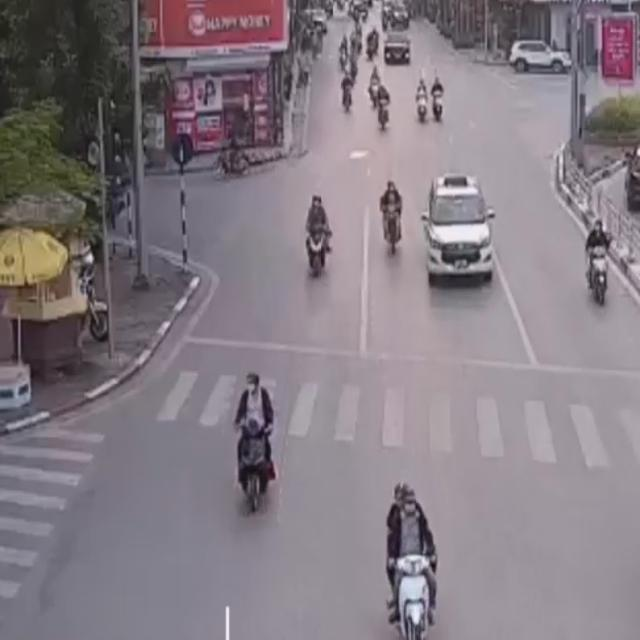car: (417, 170, 499, 292)
motorbike: (382, 476, 439, 640), (231, 370, 281, 521), (300, 190, 334, 282), (582, 218, 614, 308), (378, 178, 408, 258), (214, 128, 252, 186)
